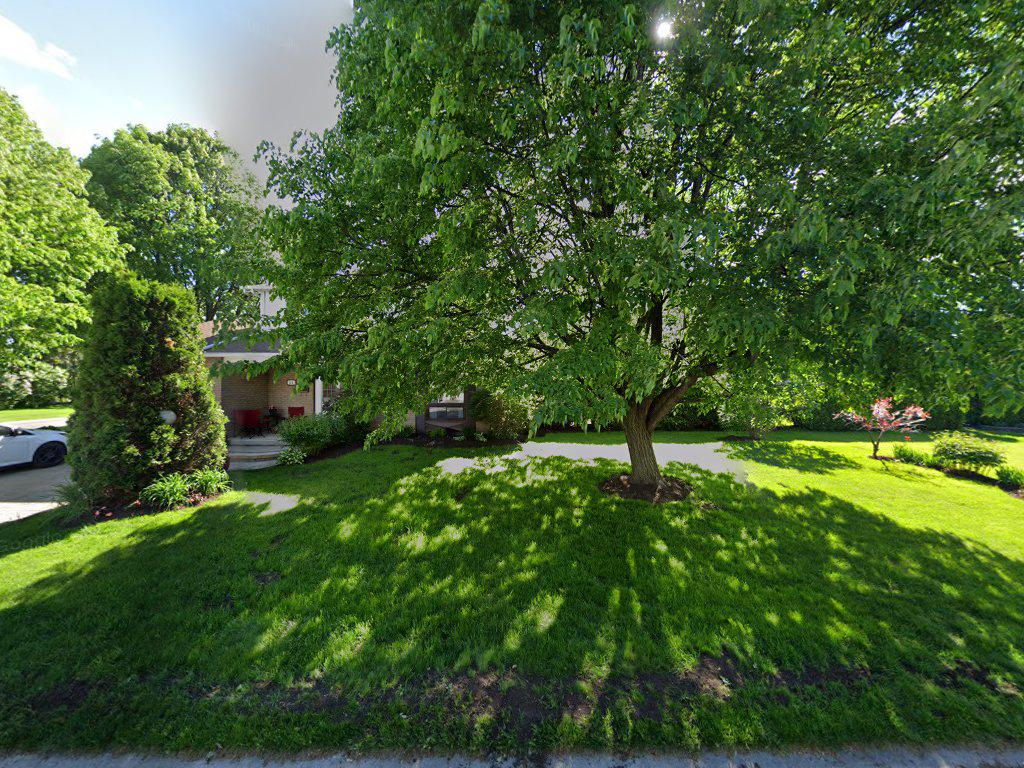trunk: (615, 392, 674, 514)
